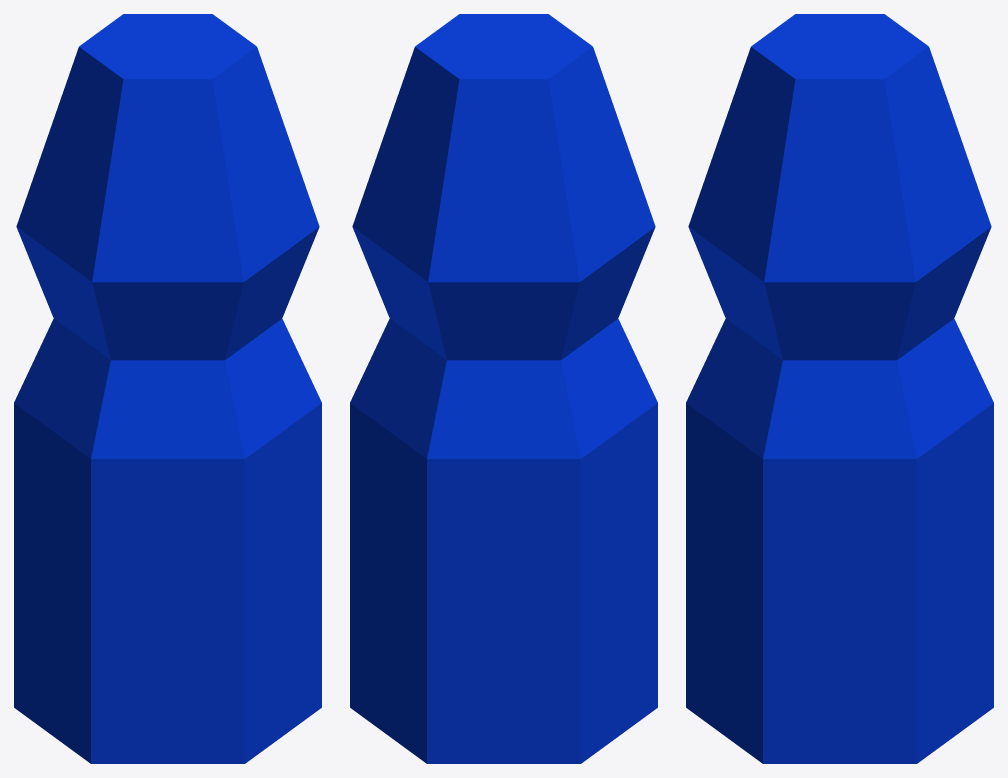
File: bottle_1_fill.fbx
3 renders of one model, left to right at view 1: azimuth 30°, elevation 25°; view 2: azimuth 150°, elevation 25°; view 3: azimuth 270°, elevation 25°, orthographic.
Visible parts, largest first — view 1: bottle_1; view 2: bottle_1; view 3: bottle_1.
Part boxes in pixels (x1,y1,x2,y2): bottle_1: [14, 14, 321, 763]; bottle_1: [350, 14, 657, 763]; bottle_1: [686, 14, 993, 763].
Bounding box in the file's own units: 16.14 × 44.14 × 18.64.
